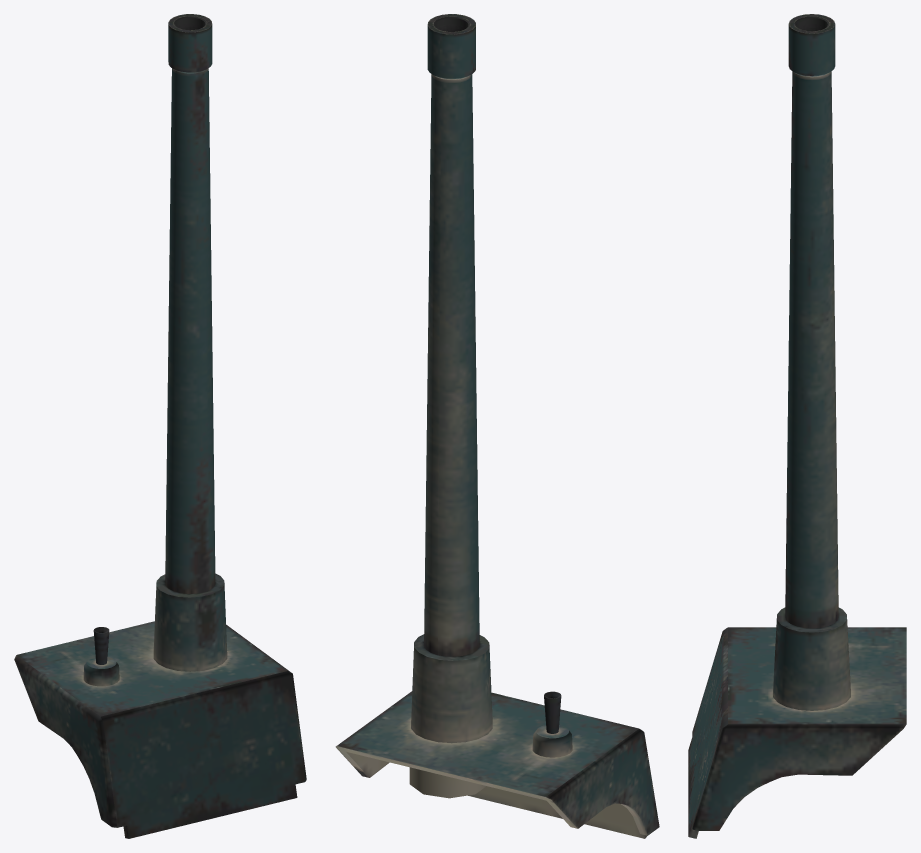
The model's file is Gun_05.glb.
The picture shows the model from 3 angles, left to right: view 1: azimuth 30°, elevation 25°; view 2: azimuth 150°, elevation 25°; view 3: azimuth 270°, elevation 25°; orthographic projection. The views are drawn at different scales.
Parts seen in each view (by area): view 1: set_0_group_0; view 2: set_0_group_0; view 3: set_0_group_0.
Boxes of the visible parts, x1,y1,x2,y2 form: set_0_group_0: (14, 14, 306, 838); set_0_group_0: (335, 14, 659, 838); set_0_group_0: (688, 14, 906, 838).
Size of the model in its own units: 0.5611 by 2.05 by 0.5135.
Materials: 1 (1 with a texture image).
